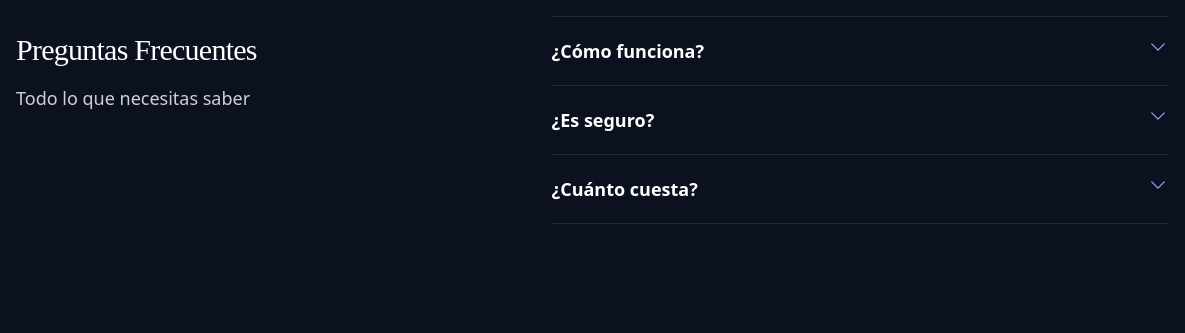
Test case: FaqSection › puede abrir múltiples preguntas a la vez
Click the button "¿Cómo funciona?".
click(628, 51)  # box x1=552 y1=17 x2=1168 y2=85
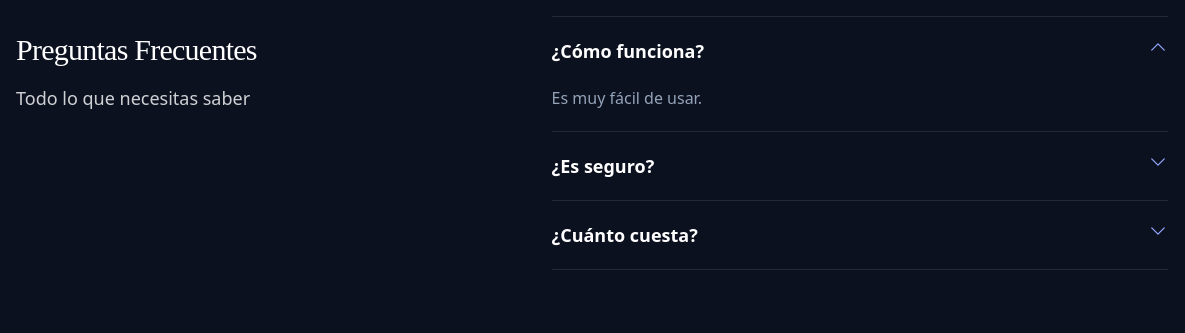
Click the button "¿Es seguro?".
click(603, 166)  # box x1=552 y1=132 x2=1168 y2=200
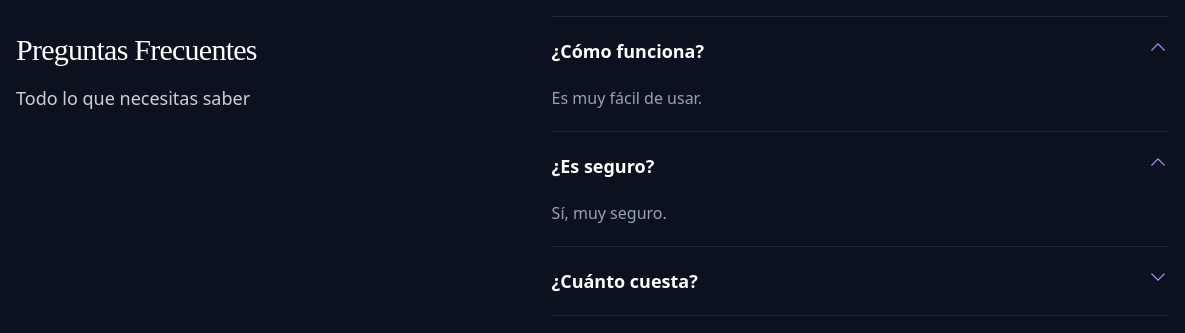
Expected: the text "Es muy fácil de usar." is shown, x1=552 y1=87 x2=702 y2=109
Expected: the text "Sí, muy seguro." is shown, x1=552 y1=202 x2=667 y2=224
